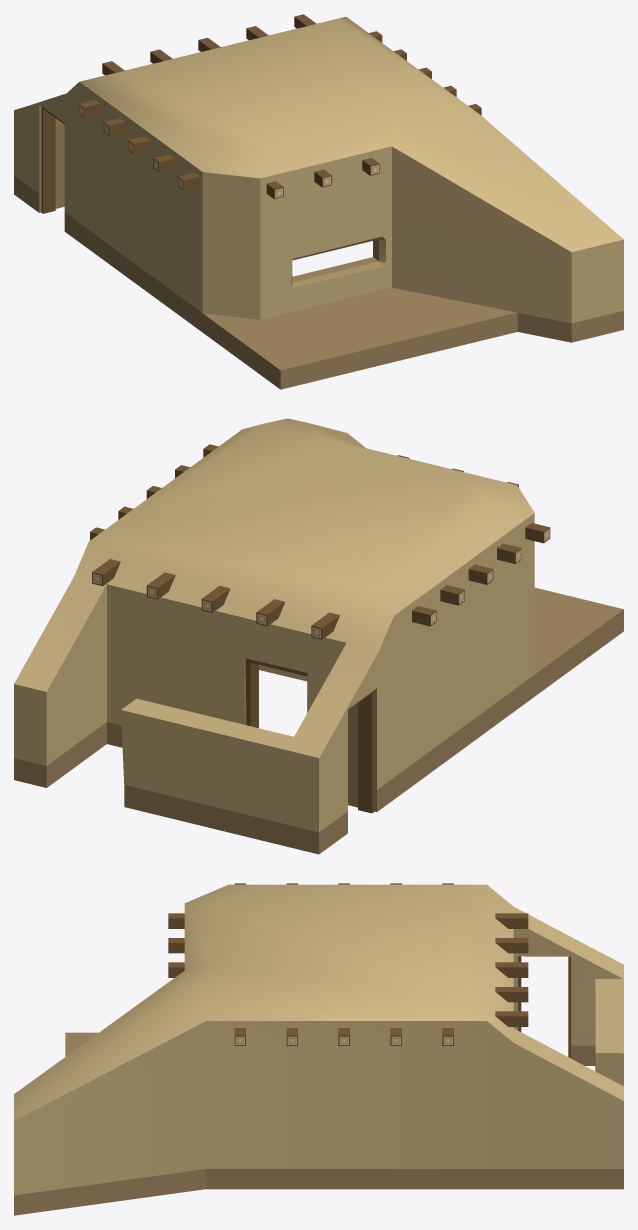
File: Bunker_3.FBX
3 views of the same model, one above another, from view 1: azimuth 30°, elevation 25°; view 2: azimuth 150°, elevation 25°; view 3: azimuth 270°, elevation 25° (orthographic). The views are drawn at different scales.
Visible parts, largest first — view 1: Bunker_3; view 2: Bunker_3; view 3: Bunker_3.
Boxes of the visible parts, box(x1,y1,x2,y2) form: Bunker_3: box(14, 14, 623, 389); Bunker_3: box(14, 418, 623, 854); Bunker_3: box(14, 883, 623, 1215).
Size of the model in its own units: 8.93 by 4.41 by 13.46.
Materials: 1 (1 with a texture image).
